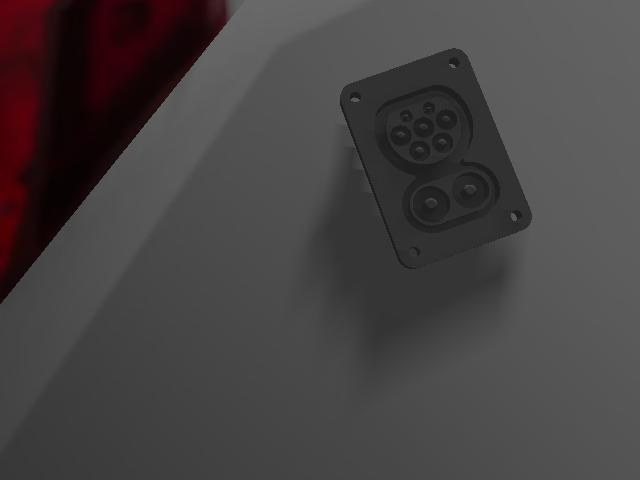EV-socket: (335, 44, 537, 276)
